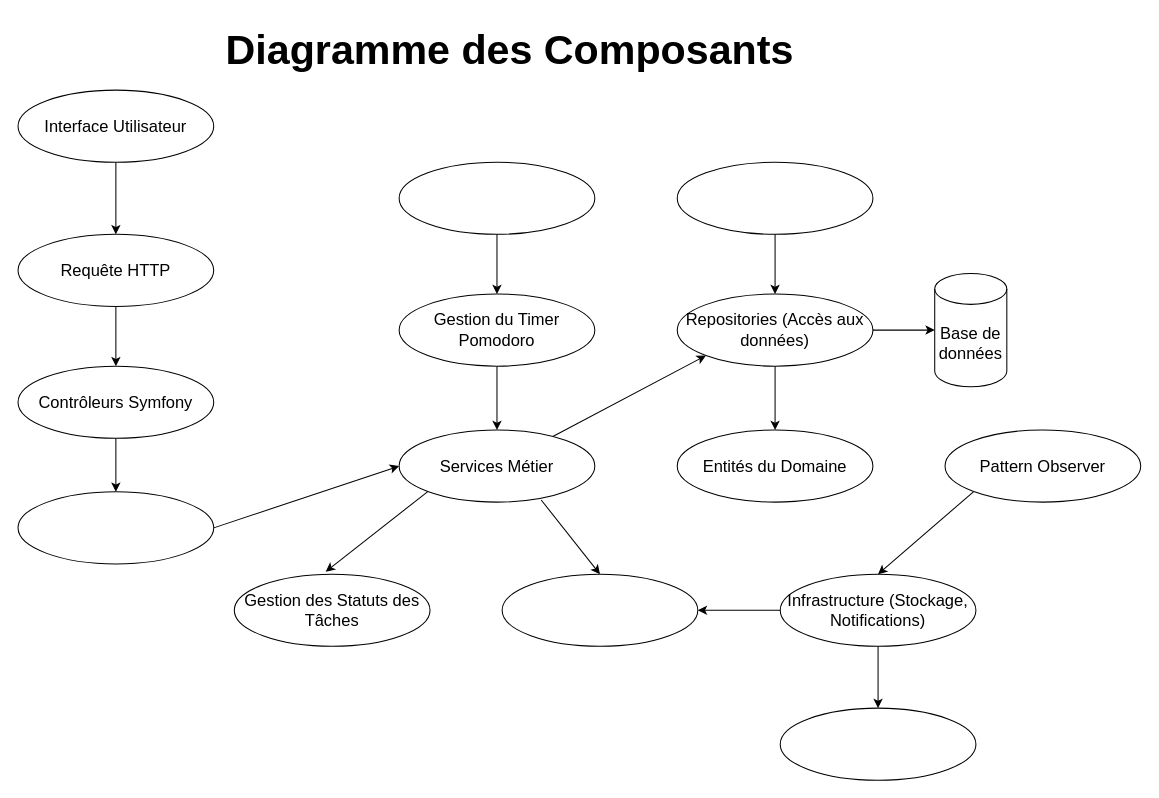
Image size: 1159x798. Some labels were removed from this diagram. The shapes that lost their labels are listed below. From the top down, each one's box as (x1, y1, x2, y2) in pixels, then its label:
(398, 161, 595, 234): Pattern Strategy
(676, 161, 873, 234): Pattern Repository
(17, 491, 214, 564): Pattern Service Layer
(501, 573, 698, 646): Système de Logs (F ichiers)
(779, 707, 976, 780): Webhooks
